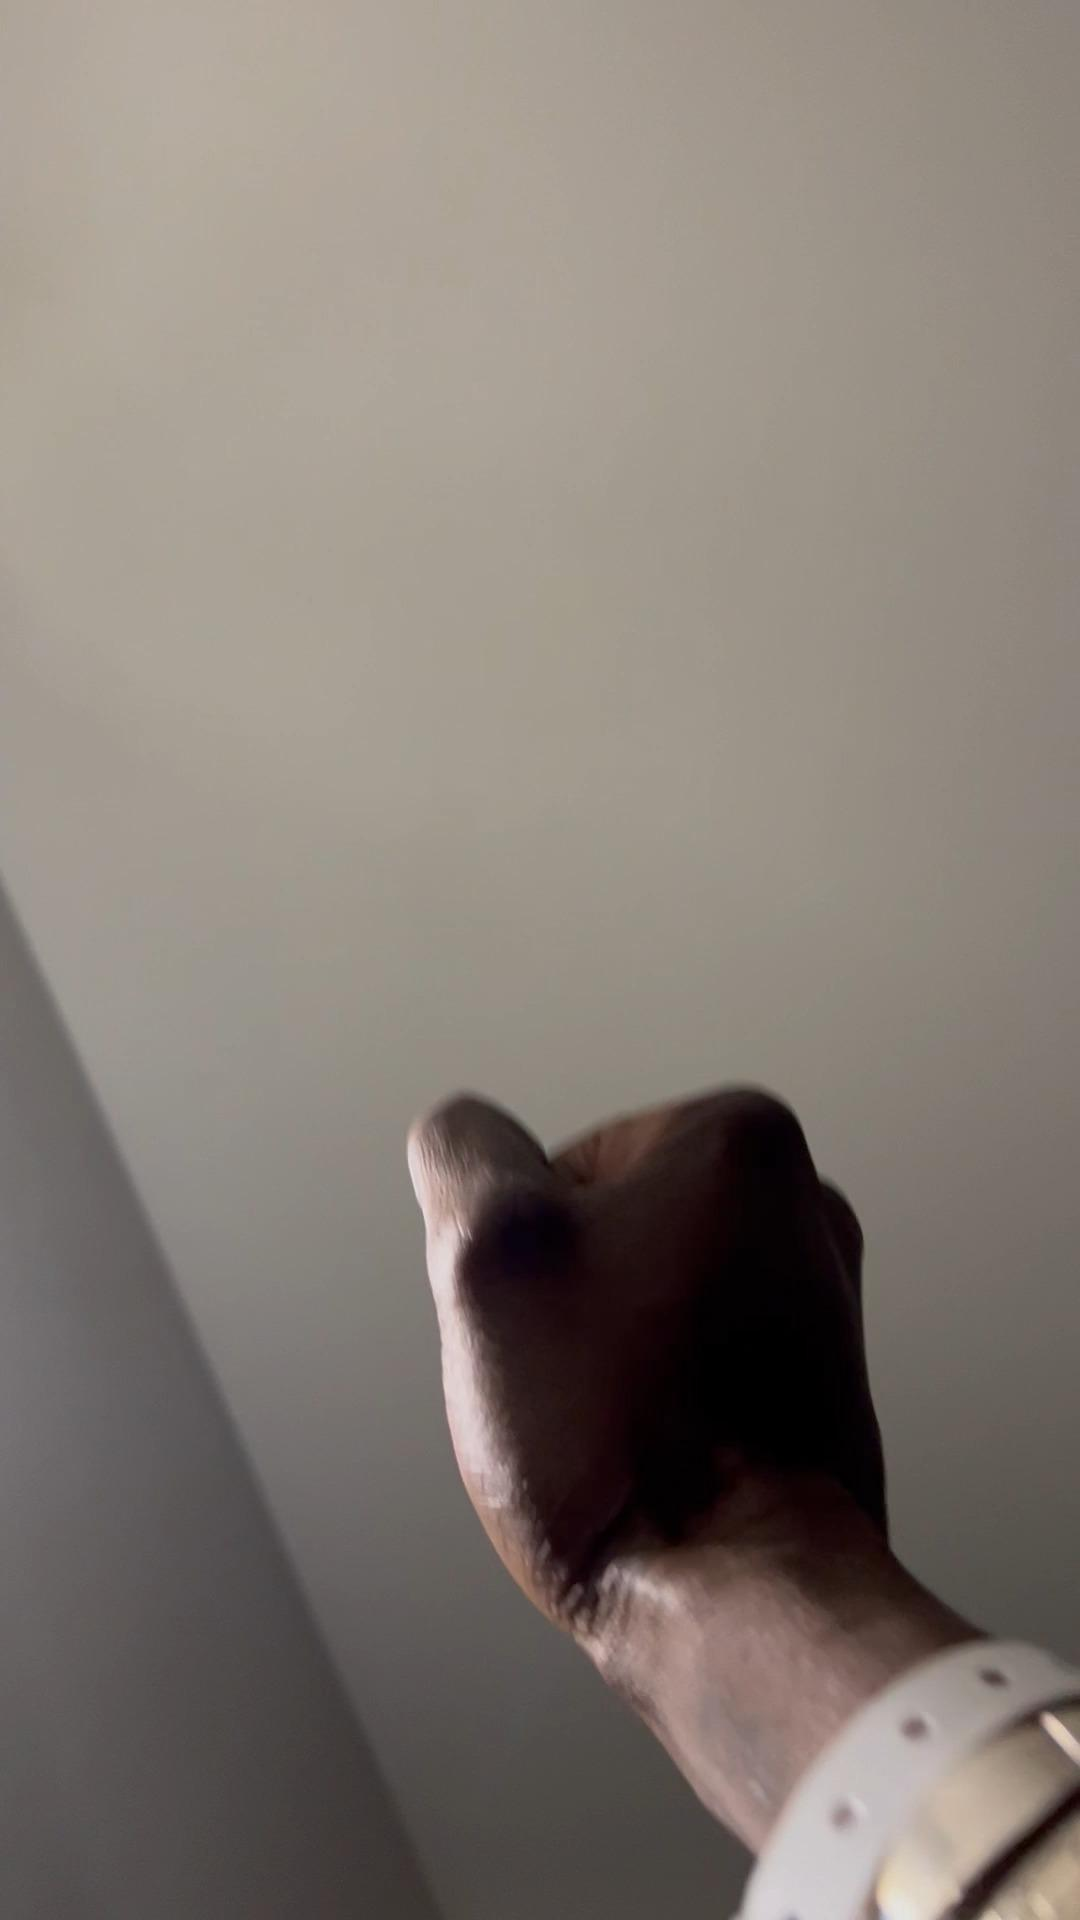Rock: (410, 1084, 889, 1700)
